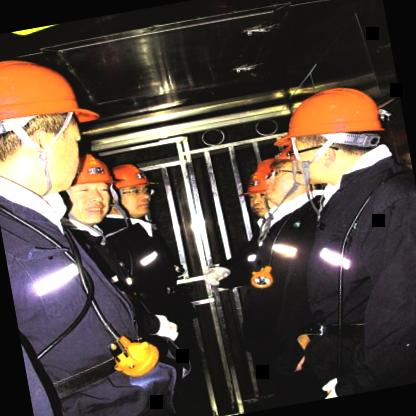helmet: (0, 36, 111, 204), (270, 71, 402, 192), (41, 150, 124, 232), (254, 144, 324, 206), (107, 156, 162, 223), (231, 164, 290, 226)
